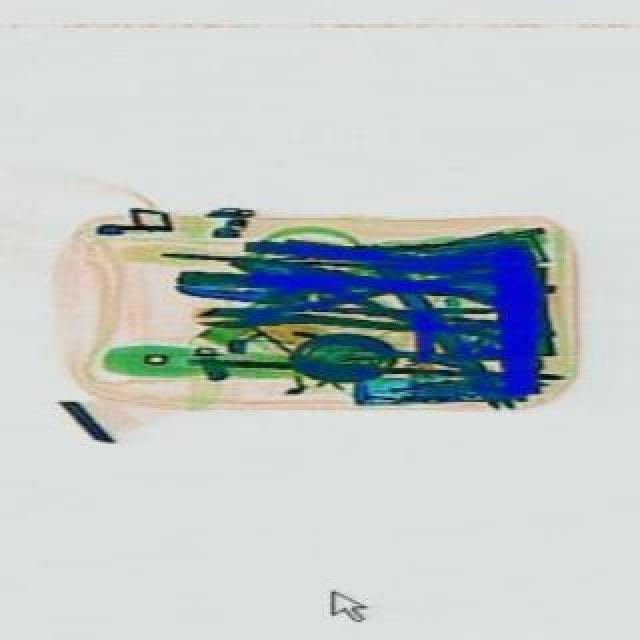wrench: (224, 234, 504, 342), (192, 274, 500, 344)
